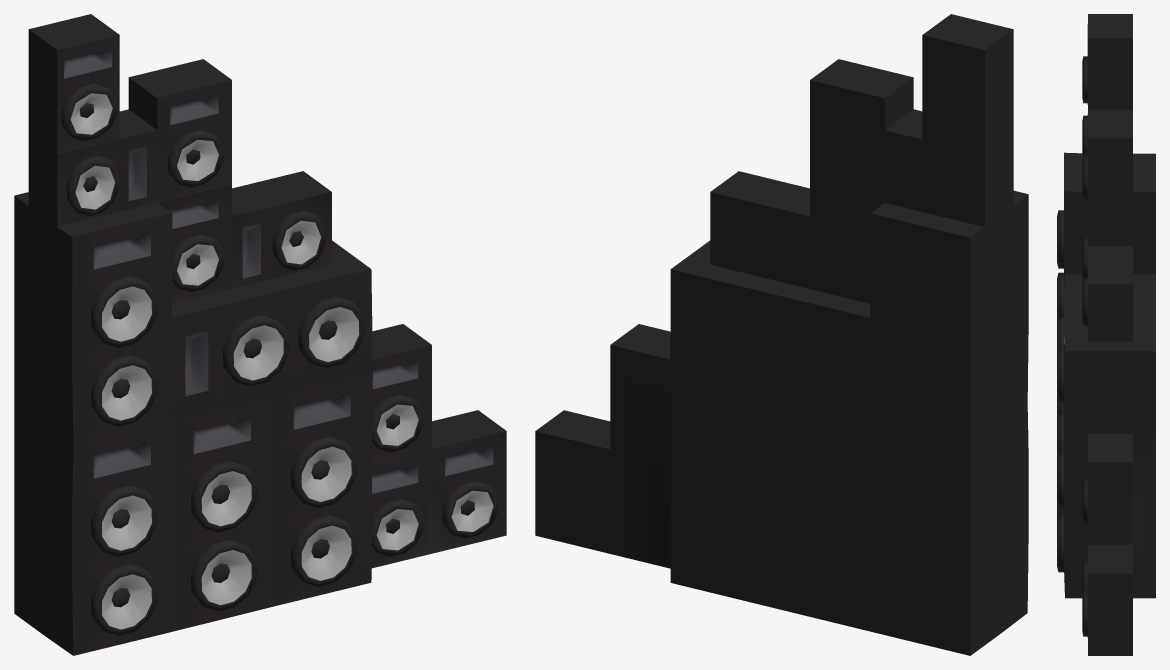
Rendered from SpeakersSoundwall.glb.
3 views of the same model, side by side, from view 1: azimuth 30°, elevation 25°; view 2: azimuth 150°, elevation 25°; view 3: azimuth 270°, elevation 25° (orthographic). The views are drawn at different scales.
Parts seen in each view (by area): view 1: SpeakerSoundwall; view 2: SpeakerSoundwall; view 3: SpeakerSoundwall.
Boxes of the visible parts, box(x1,y1,x2,y2) form: SpeakerSoundwall: box(14, 14, 506, 655); SpeakerSoundwall: box(535, 14, 1028, 655); SpeakerSoundwall: box(1057, 14, 1155, 655).
Bounding box in the file's own units: 4.5 × 5.69 × 1.09.
Materials: 1 (1 with a texture image).
